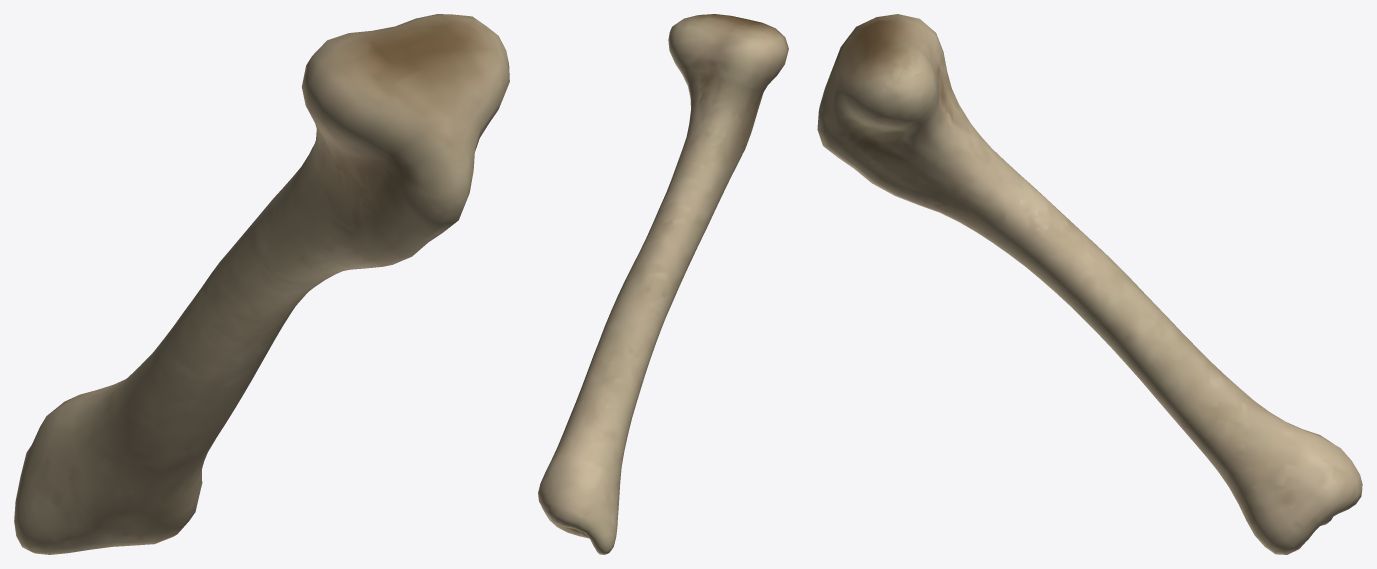
File: Tibia.glb
3 renders of one model, left to right at view 1: azimuth 30°, elevation 25°; view 2: azimuth 150°, elevation 25°; view 3: azimuth 270°, elevation 25°, orthographic. The views are drawn at different scales.
Parts seen in each view (by area): view 1: polySurface12; view 2: polySurface12; view 3: polySurface12.
Part boxes in pixels (<box>): polySurface12: <box>14,14,509,554</box>; polySurface12: <box>538,14,788,554</box>; polySurface12: <box>817,14,1362,554</box>.
Bounding box in the file's own units: 27.43 × 98.42 × 93.91.
Materials: 1 (1 with a texture image).
